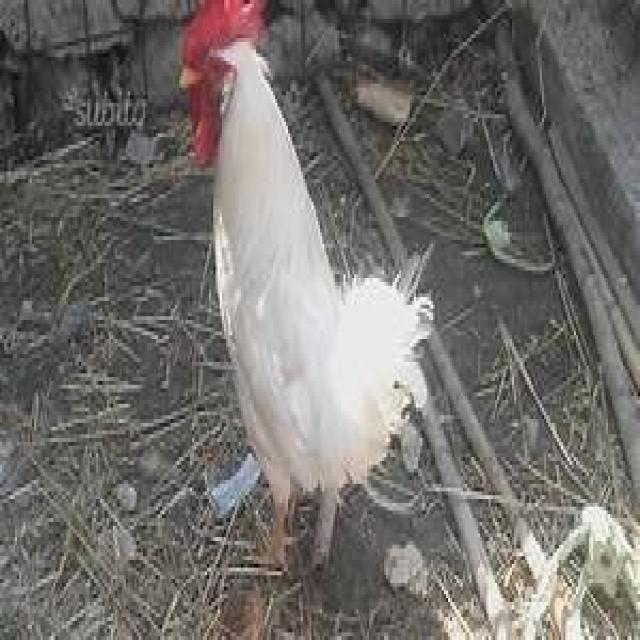animal: (175, 0, 435, 575)
